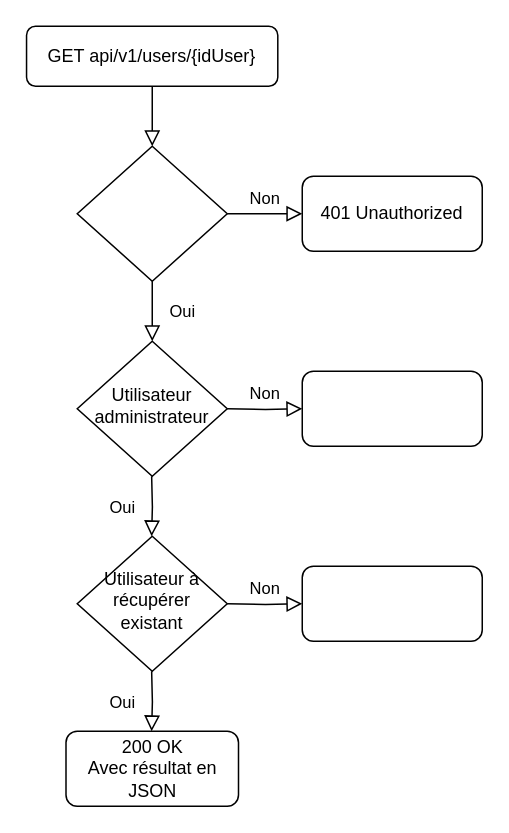
The diagram is 509 pixels wide and 833 high, and some of its shapes have lost their labels. Here are the shapes that lost their labels. From the top down, the centre of each, then its label:
At point (151, 213): "Header Authorization présent".
At point (391, 408): "403 Forbidden".
At point (391, 603): "404 Not Found".
